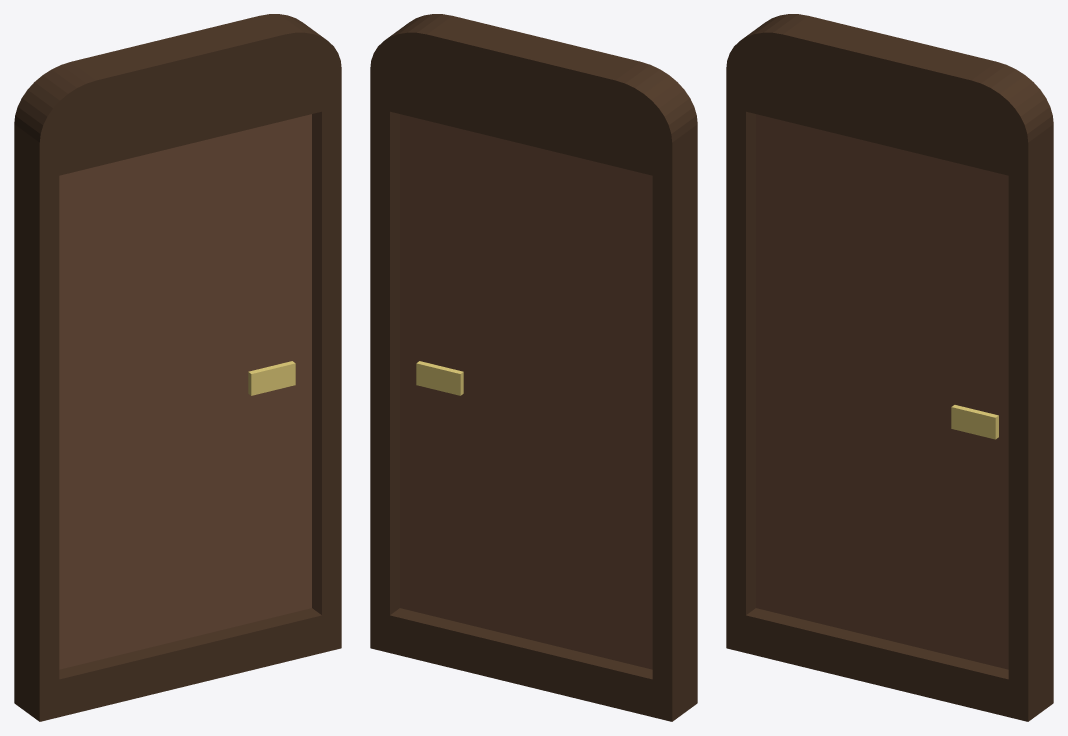
Rendered from Door.fbx.
The picture shows the model from 3 angles, left to right: view 1: azimuth 30°, elevation 25°; view 2: azimuth 150°, elevation 25°; view 3: azimuth 330°, elevation 25°; orthographic projection.
Visible parts, largest first — view 1: Cube; view 2: Cube; view 3: Cube.
Part boxes in pixels (<box>): Cube: <box>14,14,341,721</box>; Cube: <box>370,14,697,721</box>; Cube: <box>726,14,1053,721</box>.
Bounding box in the file's own units: 600 × 1192 × 87.88.
